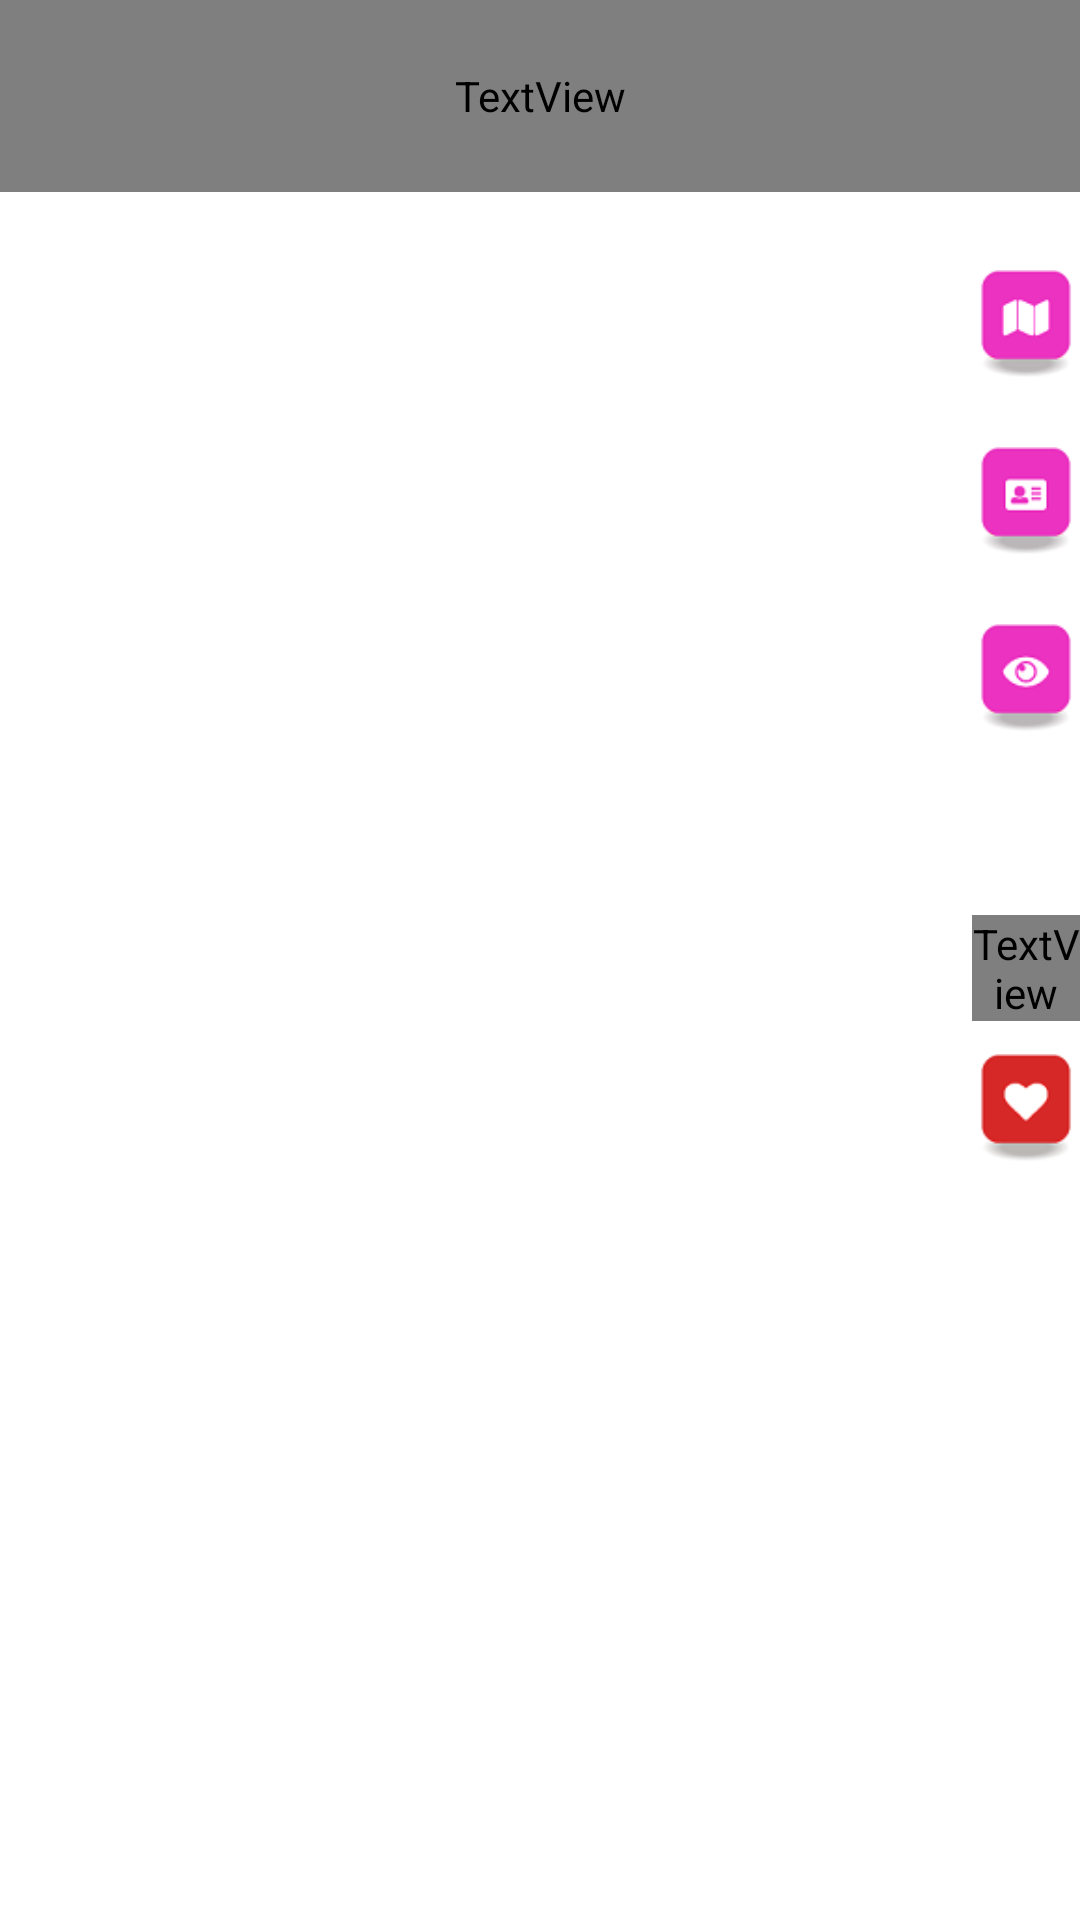

Icon click points for this 1080px×1920px phone screenshot, format (x=x, y=y):
map: (x=1026, y=322)
matches yes: (x=1026, y=1106)
profile: (x=1026, y=499)
